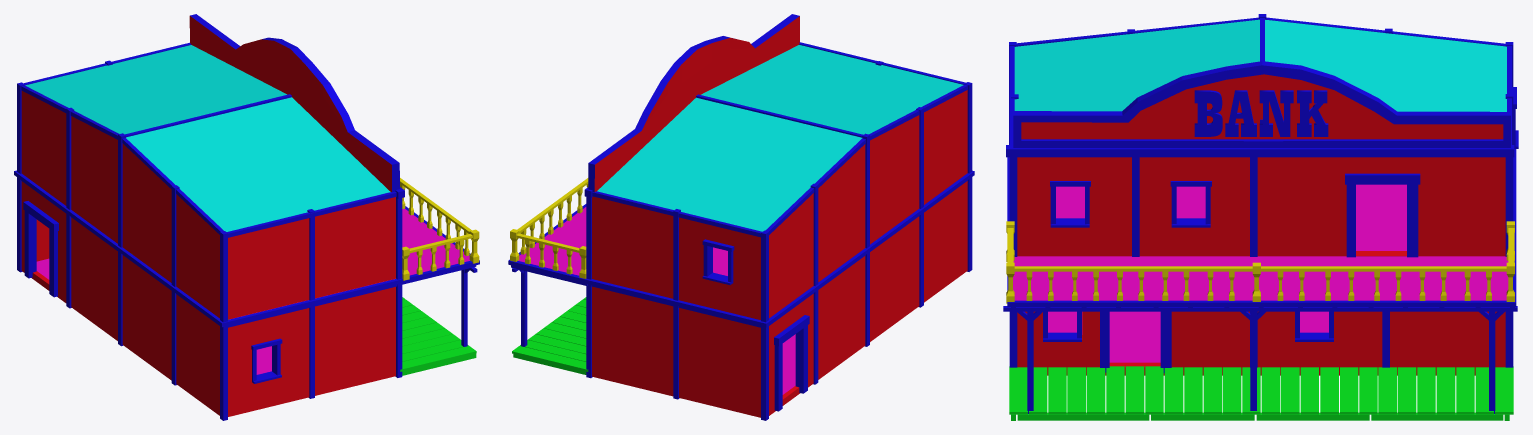
Rendered from Bank.fbx.
3 views of the same model, side by side, from view 1: azimuth 30°, elevation 25°; view 2: azimuth 150°, elevation 25°; view 3: azimuth 270°, elevation 25° (orthographic). The views are drawn at different scales.
Visible parts, largest first — view 1: structure; view 2: structure; view 3: structure.
Boxes of the visible parts, x1,y1,x2,y2 form: structure: (14,14,479,420); structure: (508,14,974,420); structure: (1003,14,1518,420).
Bounding box in the file's own units: 1263 × 1184 × 1777.
